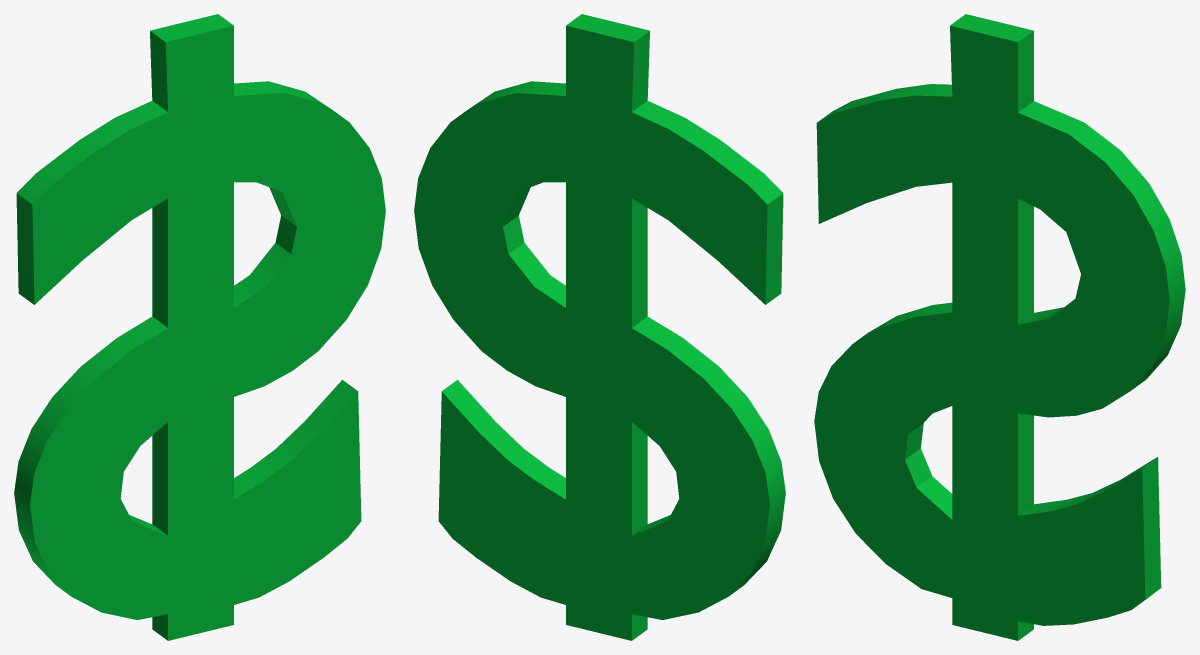
The model's file is dollar.fbx.
The picture shows the model from 3 angles, left to right: view 1: azimuth 30°, elevation 25°; view 2: azimuth 150°, elevation 25°; view 3: azimuth 330°, elevation 25°; orthographic projection.
Visible parts, largest first — view 1: Dollar; view 2: Dollar; view 3: Dollar.
Part boxes in pixels (x1,y1,x2,y2): Dollar: [14, 14, 385, 640]; Dollar: [414, 14, 785, 640]; Dollar: [814, 14, 1185, 640].
Size of the model in its own units: 36.05 by 58.01 by 2.78.
1 material, 1 textured.
